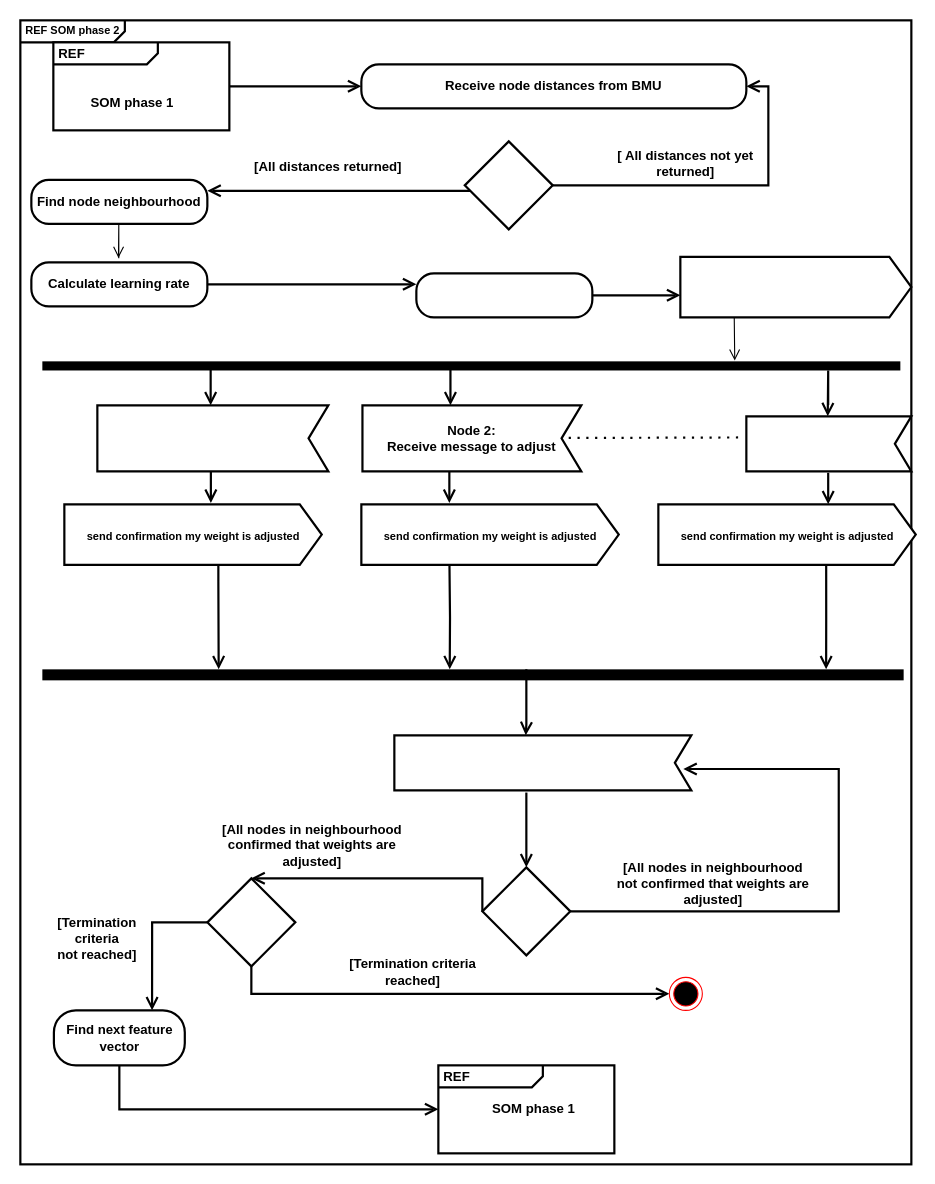
Image size: 935x1184. Some labels were removed from this diagram. Each missing label, with the centre of its shape:
Adjust BMU: (504,295)
Node (n): Receive message to adjust: (828,443)
Node 1: Receive message to adjust: (212,438)
Receive confirmation neighbourhood Node weights are adjusted: (542,762)
send message to nodes to adjust weights: (795,286)
